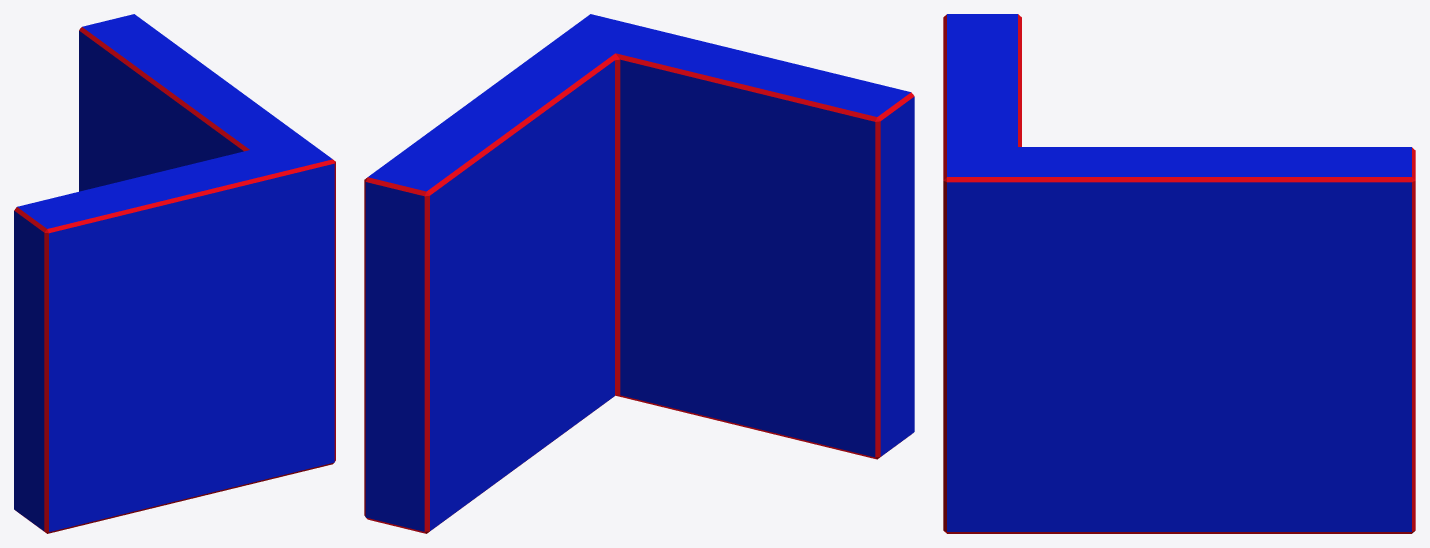
The model's file is L5_Corner.fbx.
3 views of the same model, side by side, from view 1: azimuth 30°, elevation 25°; view 2: azimuth 150°, elevation 25°; view 3: azimuth 270°, elevation 25° (orthographic). The views are drawn at different scales.
Parts seen in each view (by area): view 1: L5_Corner; view 2: L5_Corner; view 3: L5_Corner.
Part boxes in pixels (box(x1,y1,x2,y2)): L5_Corner: box(14, 14, 335, 533); L5_Corner: box(364, 14, 914, 533); L5_Corner: box(943, 14, 1415, 533).
Size of the model in its own units: 500 by 500 by 600.
